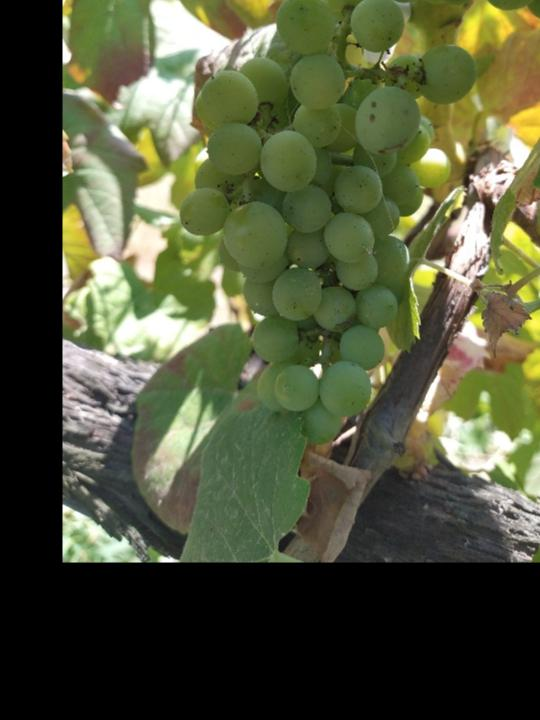grape: (168, 0, 480, 449)
